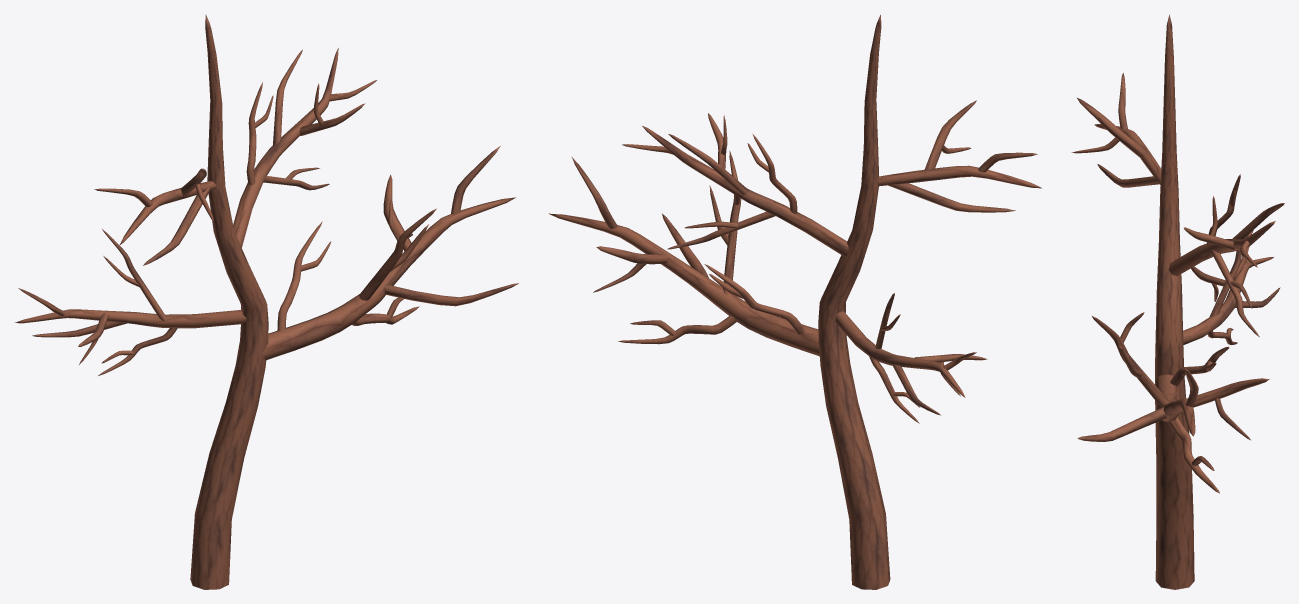
The model's file is DeadTree_3.glb.
3 views of the same model, side by side, from view 1: azimuth 30°, elevation 25°; view 2: azimuth 150°, elevation 25°; view 3: azimuth 270°, elevation 25° (orthographic).
Parts seen in each view (by area): view 1: DeadTree_3; view 2: DeadTree_3; view 3: DeadTree_3.
Boxes of the visible parts, left/top/right/bottom form: DeadTree_3: left=15, top=14, right=518, bottom=589; DeadTree_3: left=548, top=14, right=1041, bottom=589; DeadTree_3: left=1071, top=14, right=1284, bottom=589.
Bounding box in the file's own units: 4.22 × 4.96 × 1.7.
Materials: 1 (1 with a texture image).
